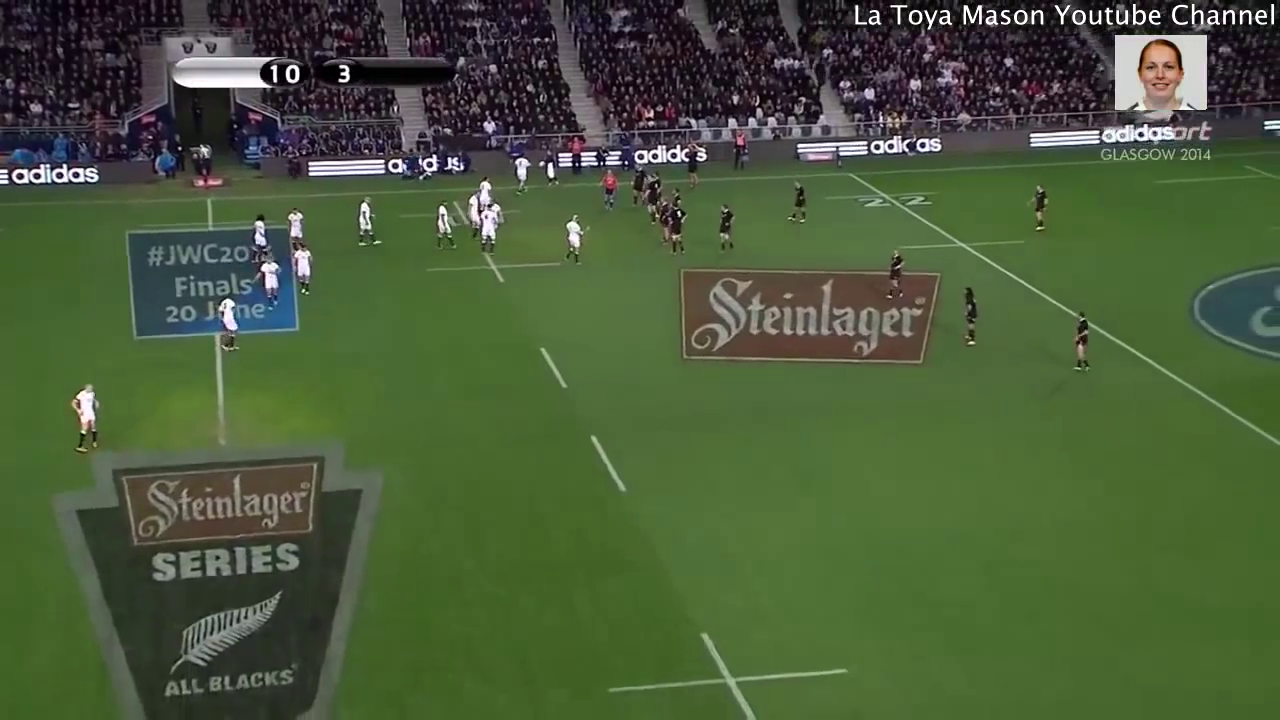10_metre: (604, 628, 860, 720), (427, 249, 567, 287), (396, 199, 525, 232)
player: (65, 379, 107, 459), (209, 289, 249, 357), (1067, 307, 1098, 379), (353, 193, 386, 249), (557, 212, 589, 266), (433, 199, 461, 256), (958, 285, 983, 347), (254, 256, 281, 309), (882, 243, 906, 302), (786, 178, 813, 227), (477, 206, 503, 255), (290, 244, 313, 298), (249, 210, 273, 258), (663, 203, 687, 251), (1028, 183, 1049, 234), (715, 203, 735, 254), (512, 150, 534, 194), (600, 167, 619, 213), (466, 191, 483, 239), (285, 204, 305, 243), (643, 176, 661, 219), (475, 176, 496, 210), (629, 164, 645, 207), (657, 198, 672, 243), (670, 185, 685, 206)
